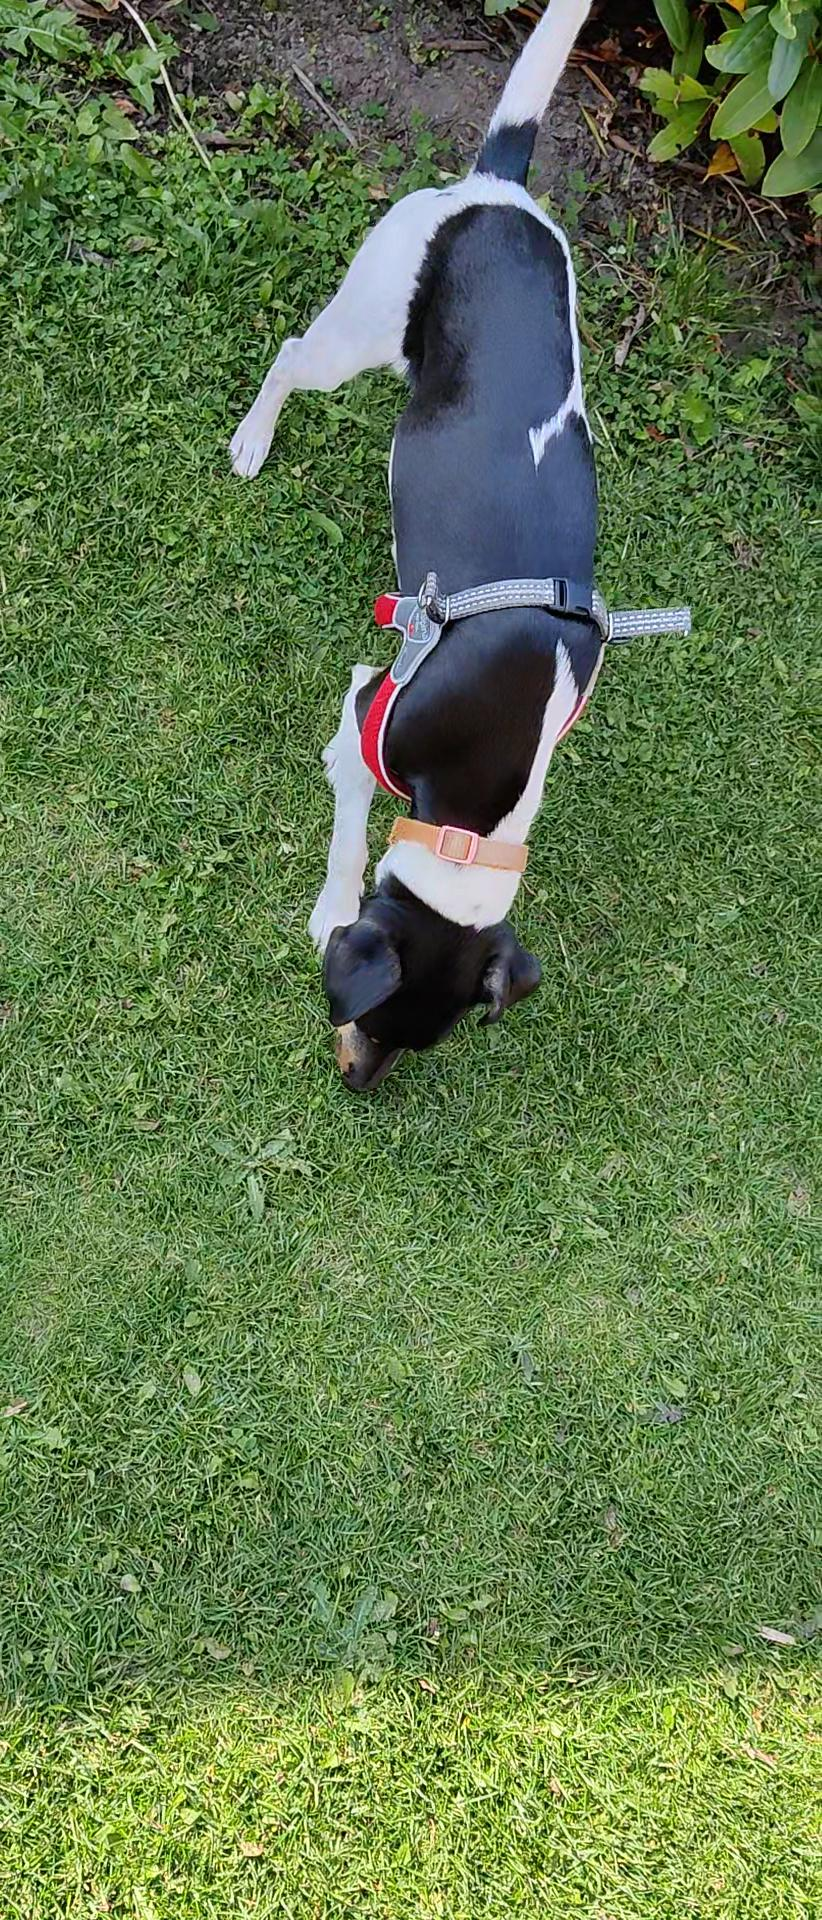Dog: (211, 0, 633, 1096)
